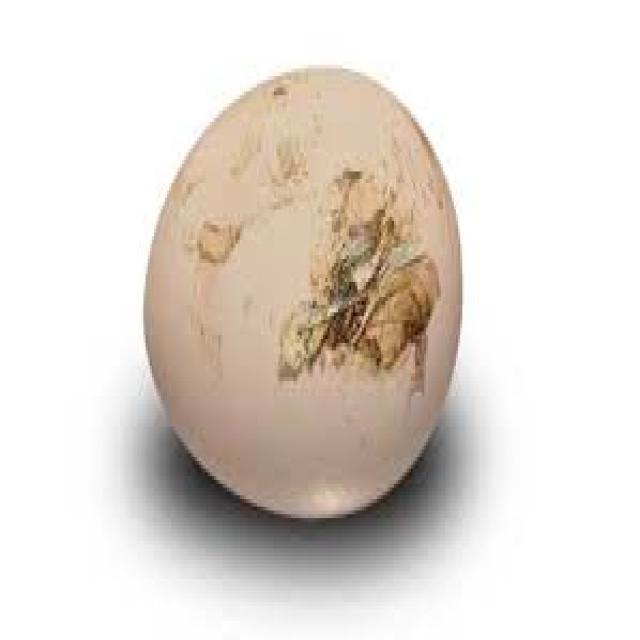Blood Stained Egg: (134, 65, 507, 543)
